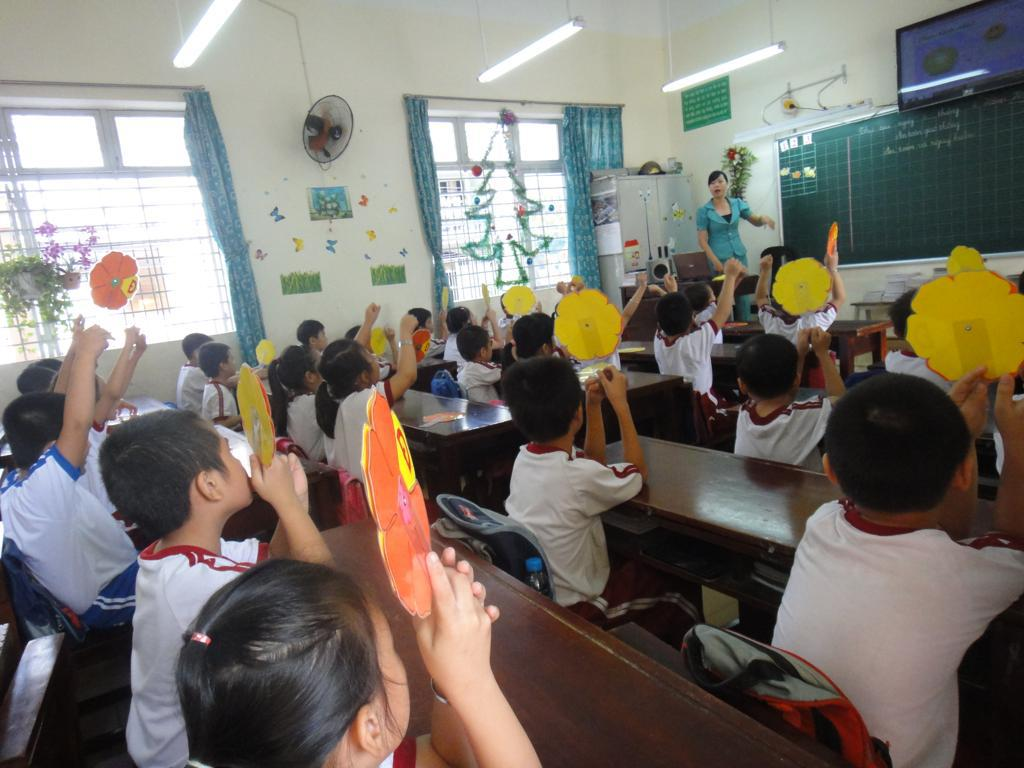face: (345, 591, 413, 759), (196, 421, 255, 505), (61, 413, 93, 480), (92, 377, 122, 426), (358, 348, 382, 387), (304, 349, 327, 389), (218, 351, 241, 378), (575, 382, 587, 432), (310, 326, 330, 352), (479, 335, 497, 363), (541, 327, 555, 359), (709, 176, 727, 198), (465, 310, 478, 331), (423, 313, 434, 337), (704, 287, 716, 309)
